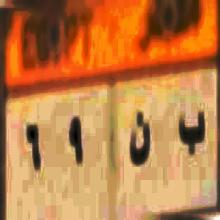6: (25, 120, 43, 172)
9: (68, 109, 88, 169)
baa: (175, 105, 207, 157)
noon: (129, 107, 152, 175)
